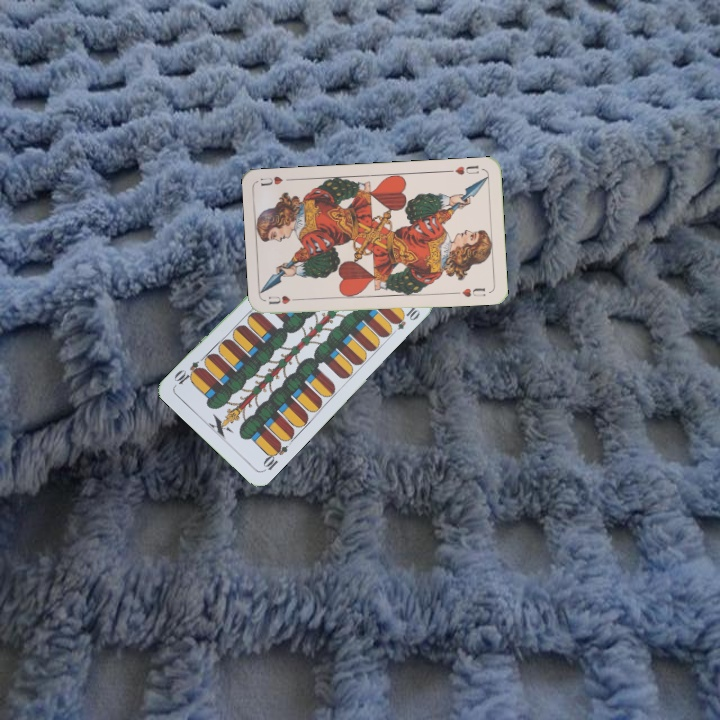E10: (259, 438, 290, 474)
HU: (264, 291, 303, 307), (451, 161, 481, 177)
